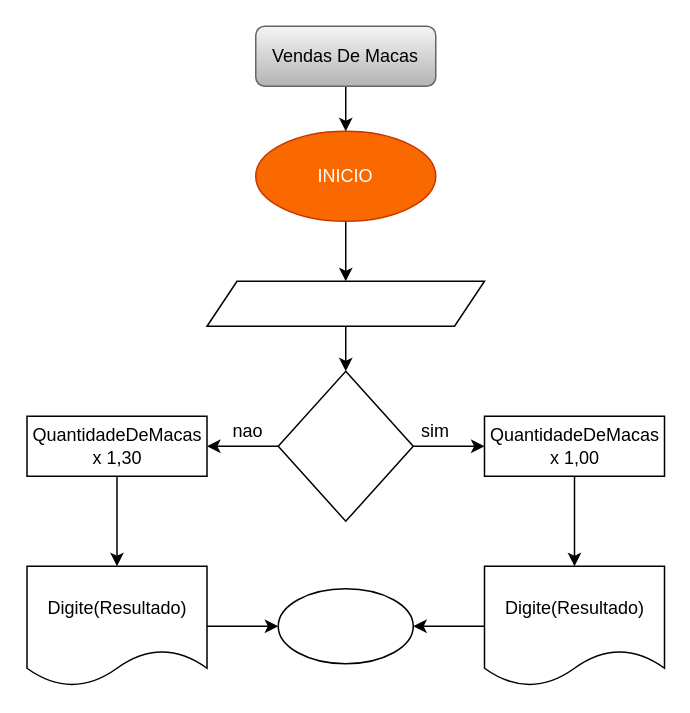
Some shapes in this 690 by 713 pixel diagram are drawn without their labels. The centre of each missing label's shape, as x and y in pixels:
"FIM" goes at (x=345, y=625).
"Leia(QuantidadeDeMacas)" goes at (x=345, y=303).
"Valor => Que 12?" goes at (x=345, y=445).
